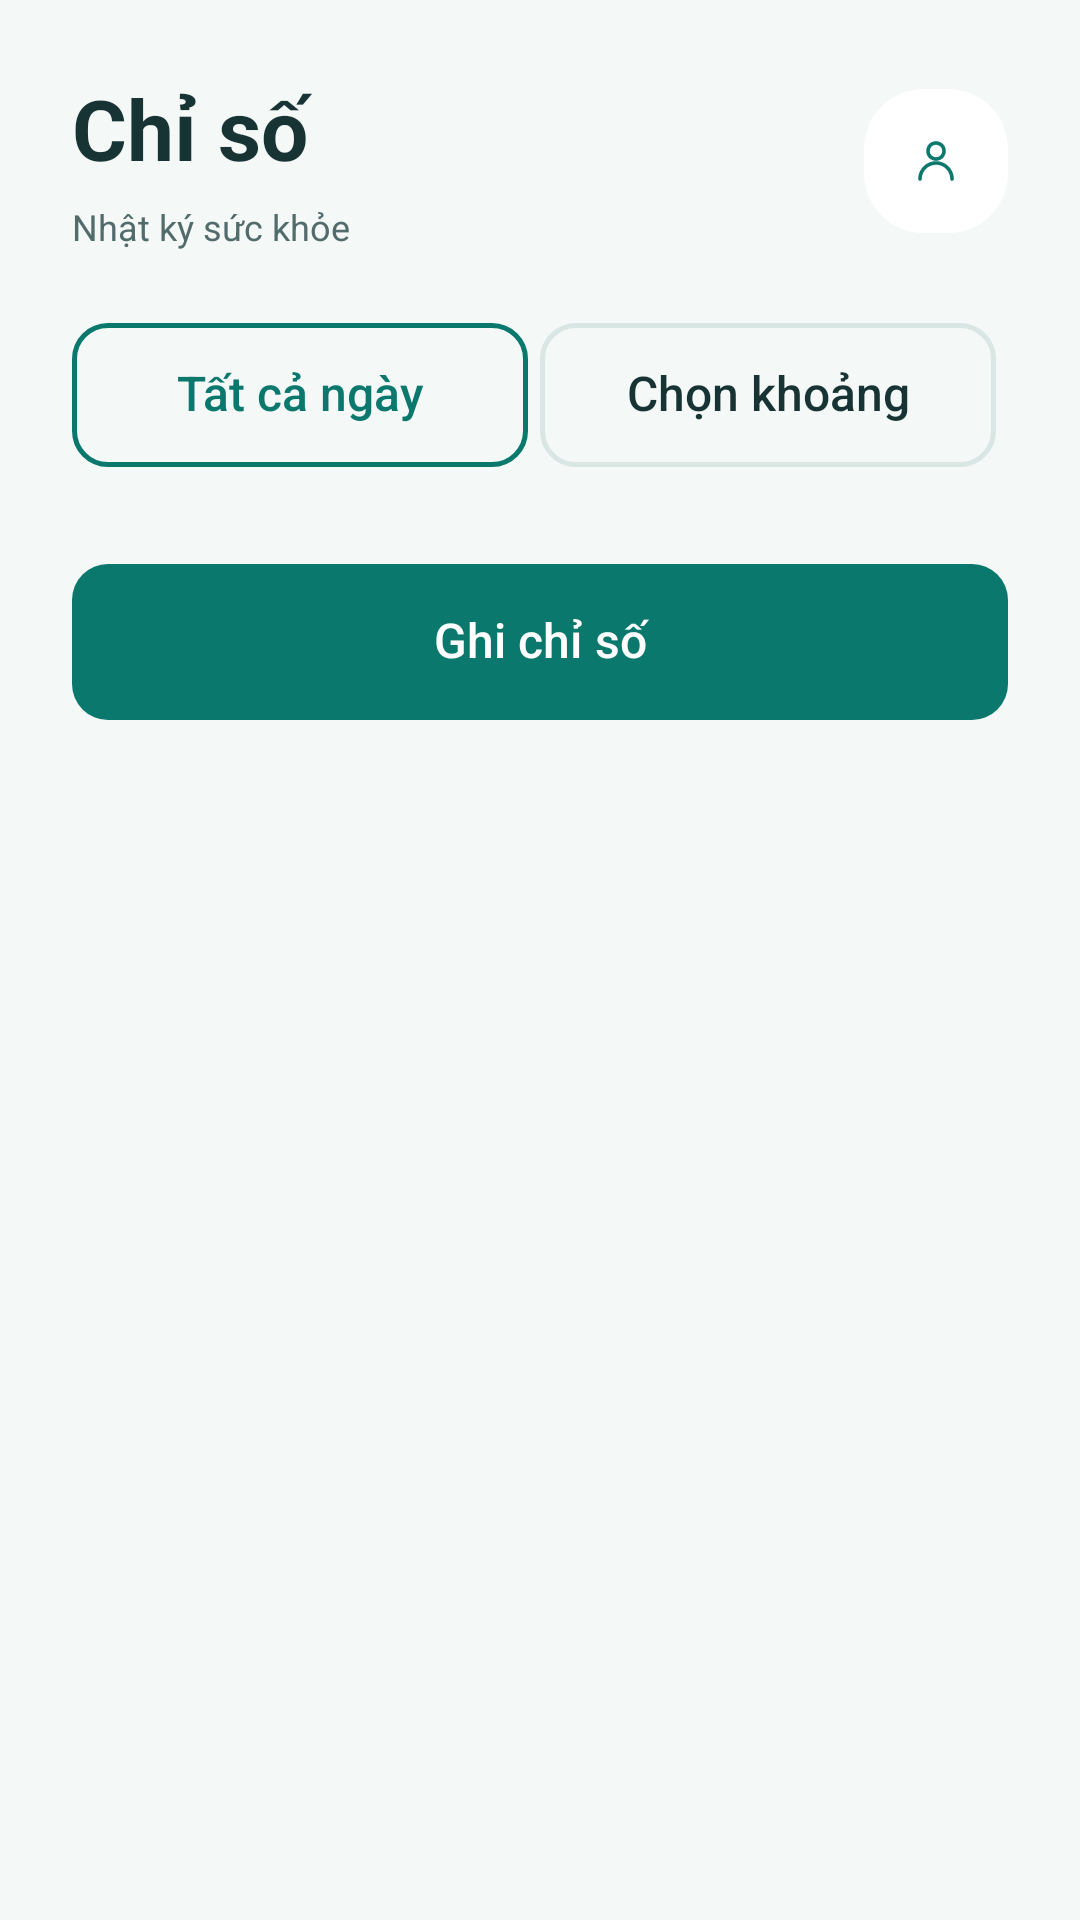

Named icons in this screenshot (1080 x 1920) and their centers, point (x, y):
Mở hồ sơ: point (936, 161)
